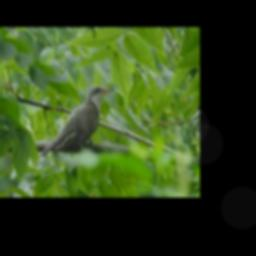Cuckoo: (40, 86, 114, 156)
